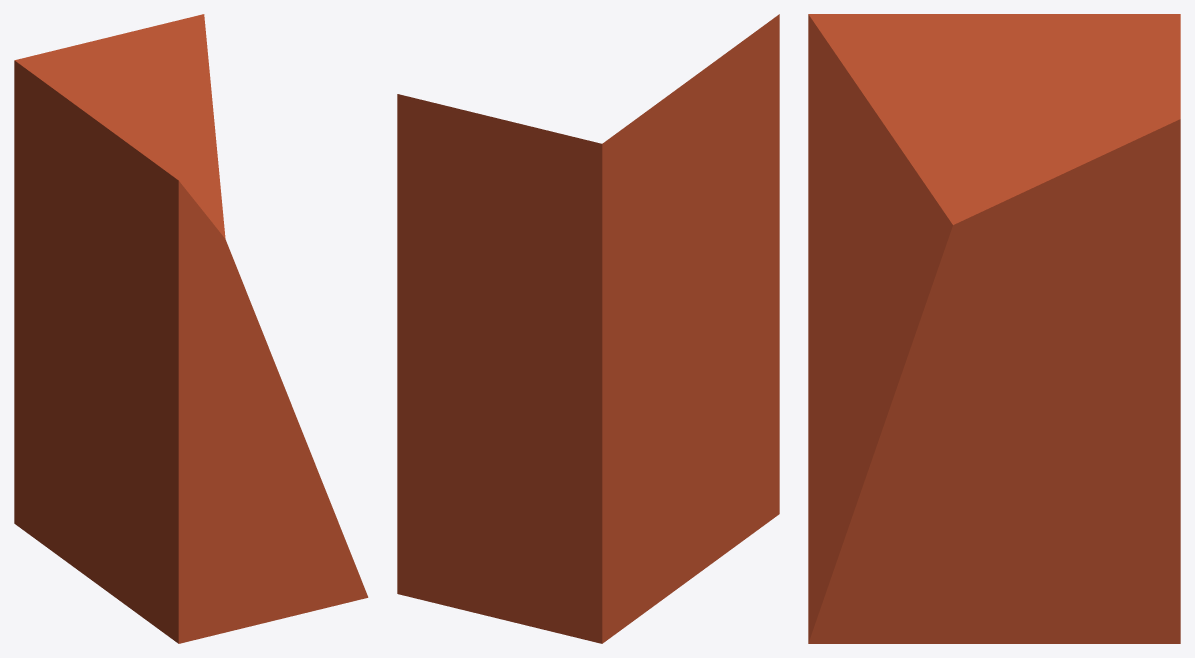
File: spacecheck.fbx
The picture shows the model from 3 angles, left to right: view 1: azimuth 30°, elevation 25°; view 2: azimuth 150°, elevation 25°; view 3: azimuth 270°, elevation 25°; orthographic projection. The views are drawn at different scales.
Visible parts, largest first — view 1: SpaceCheck; view 2: SpaceCheck; view 3: SpaceCheck.
Boxes of the visible parts, bbox=[...] form: SpaceCheck: bbox=[14, 14, 368, 643]; SpaceCheck: bbox=[397, 14, 779, 643]; SpaceCheck: bbox=[808, 14, 1180, 643].
Bounding box in the file's own units: 0.6 × 1.4 × 0.9.
